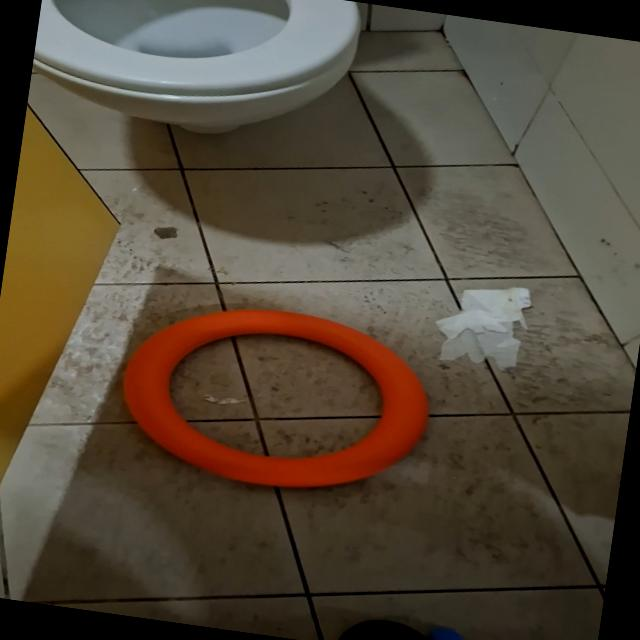note: (109, 288, 442, 508)
